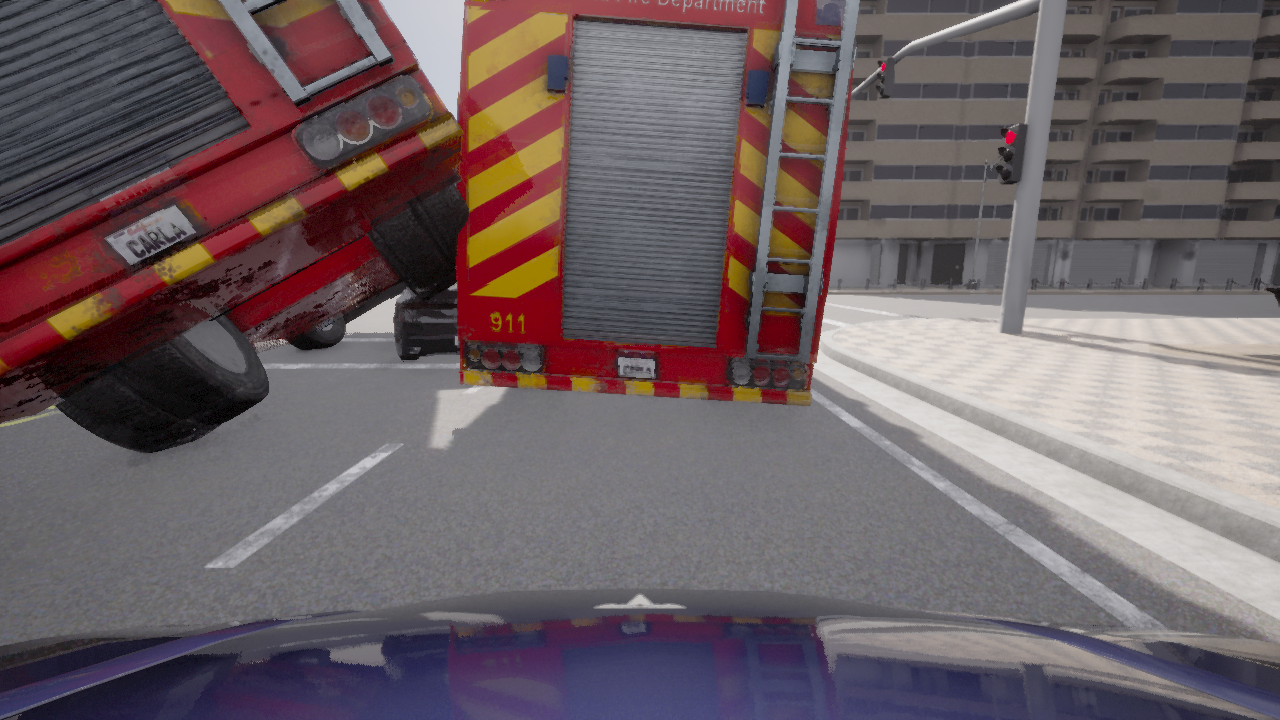cyclist: (0, 588, 1279, 719), (456, 0, 859, 407), (394, 283, 459, 360)
